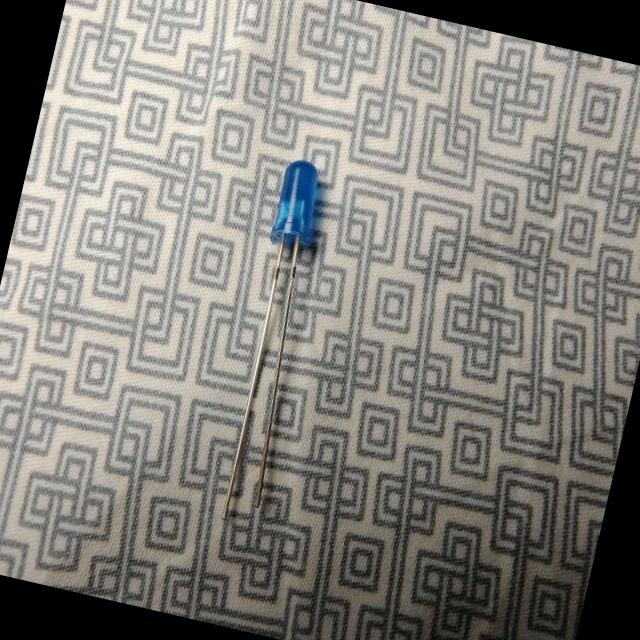blue_led: (266, 154, 330, 252)
